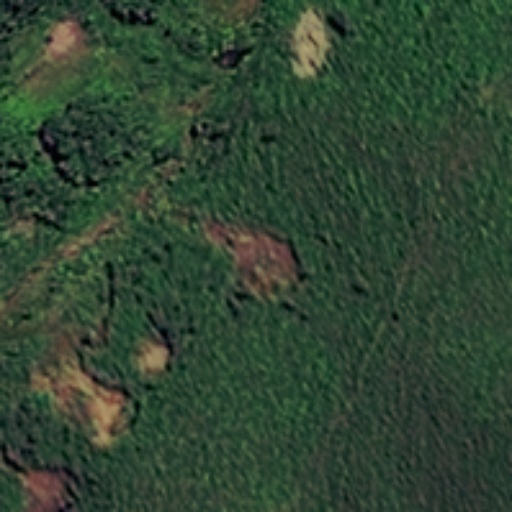landslide: (38, 327, 168, 450), (209, 222, 306, 301), (290, 6, 330, 78), (51, 17, 79, 55)
